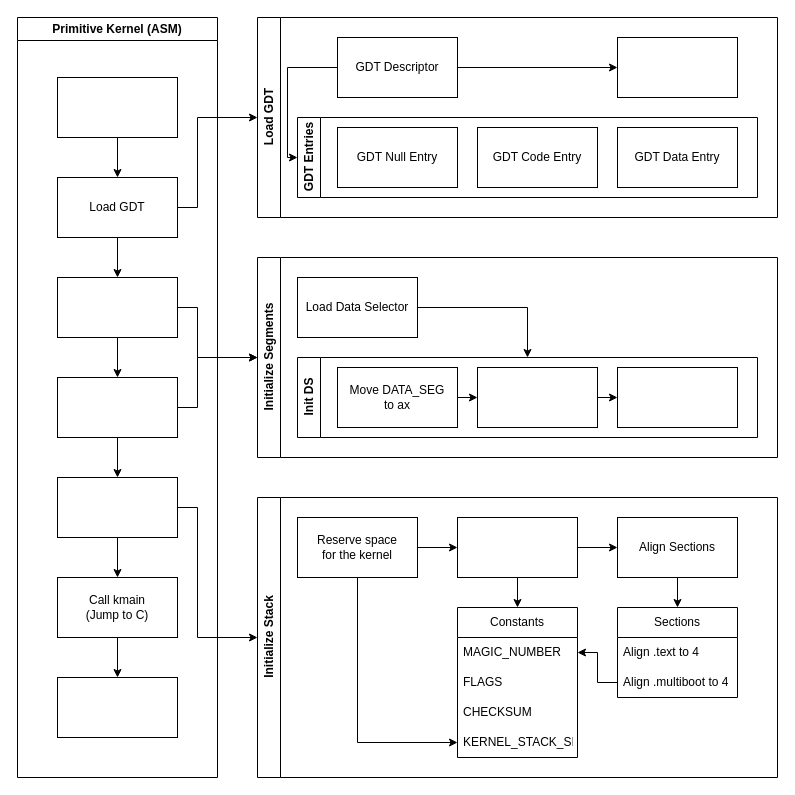
Image size: 795x795. Some labels were removed from this diagram. The shapes that lost their labels are listed below. From the top down, each one's centre as x and y in pixels, then its label:
At point 677,67: "Set Constants".
At point 117,107: "Start of Boot".
At point 117,307: "Jump to CODE_SEG".
At point 117,407: "Set CS to CODE_SEG".
At point 537,397: "Init DS, ES, FS, GS with ax".
At point 677,397: "Move ax to SS: Restrict stack operations".
At point 117,507: "Initialize Kernel Stack".
At point 517,547: "Define Constants".
At point 117,707: "Halt".
